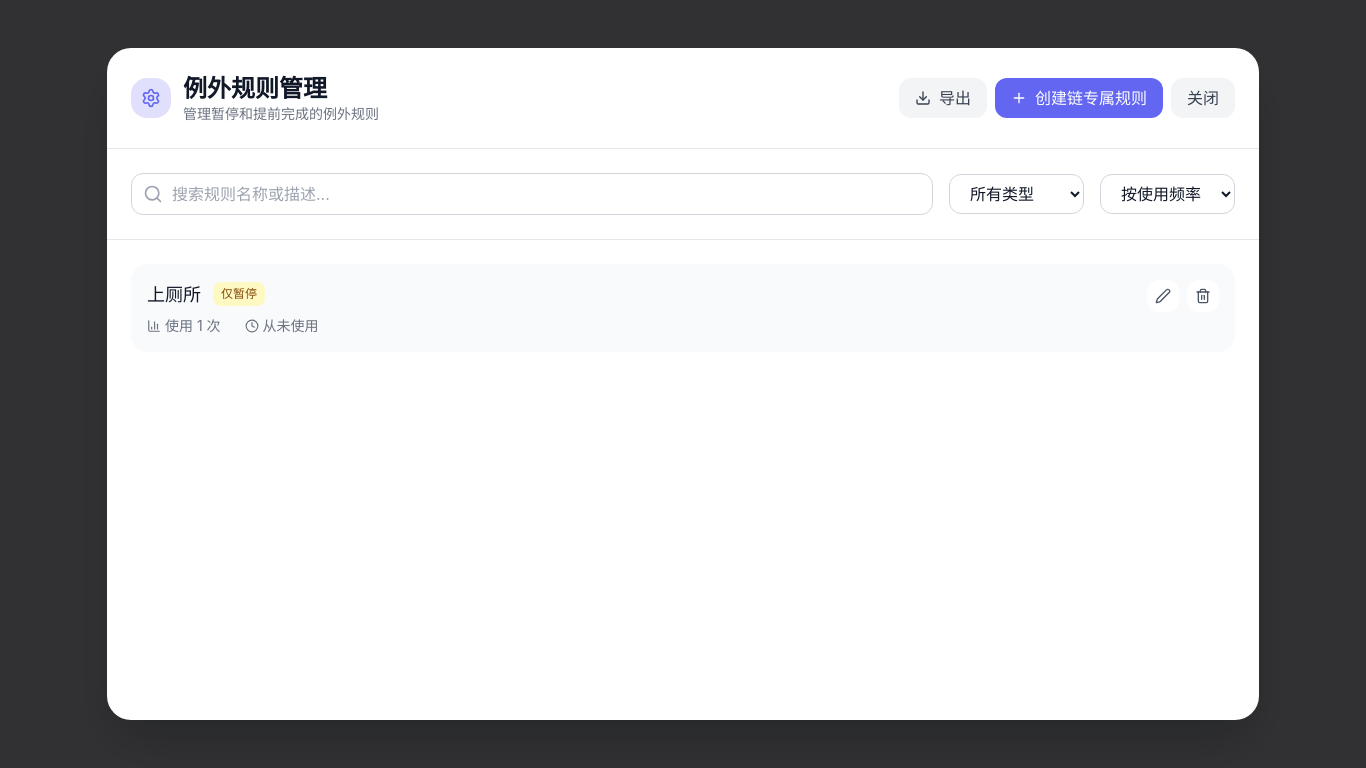
Test case: UI Integration Tests › opens the chain-rule form while preserving overflow containment
Expected: the heading "例外规则管理" is shown, [183,71,327,104]
Click the button "创建链专属规则". click: coordinates (1079, 98)
box: [995,78,1163,118]
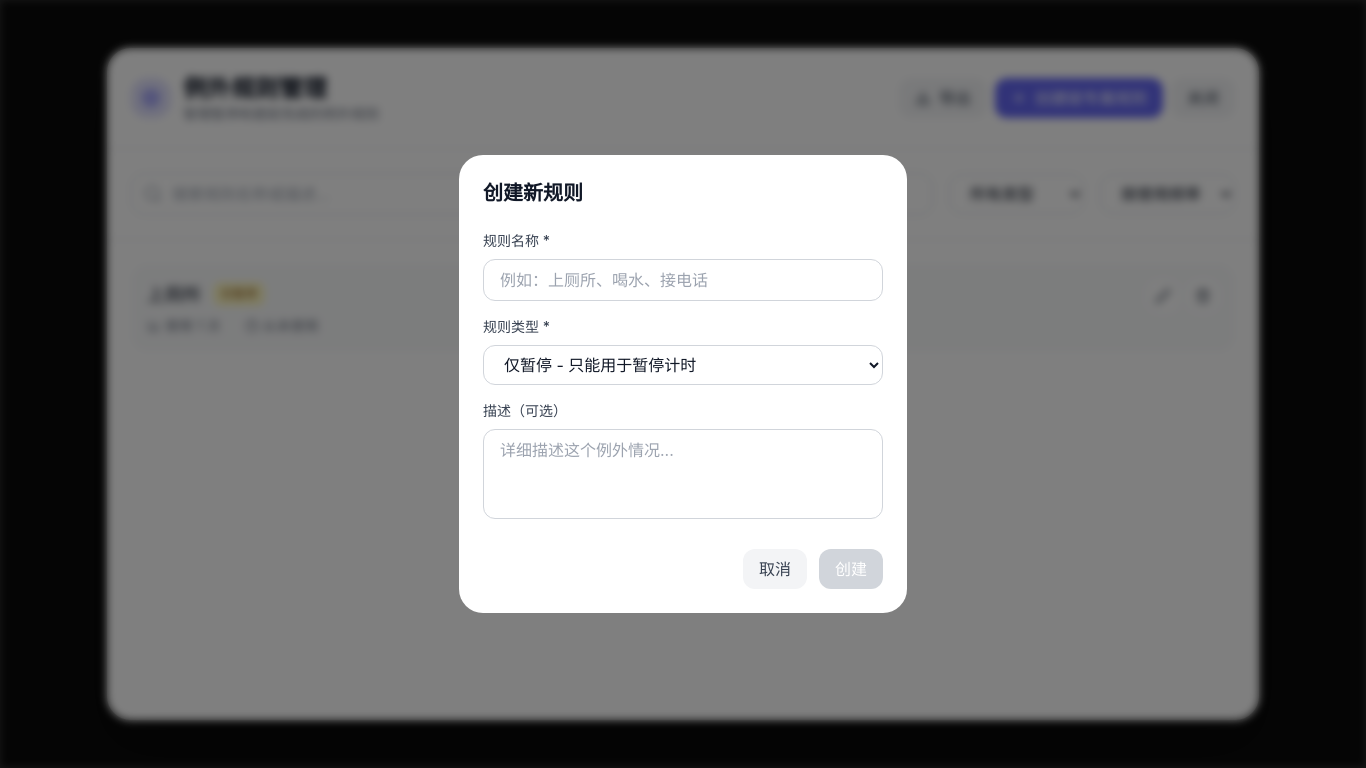
Now the heading "创建新规则" is shown, box [483,179,583,206]
Now the field with placeholder "例如：上厕所、喝水、接电话" is shown, box [483,259,883,301]
